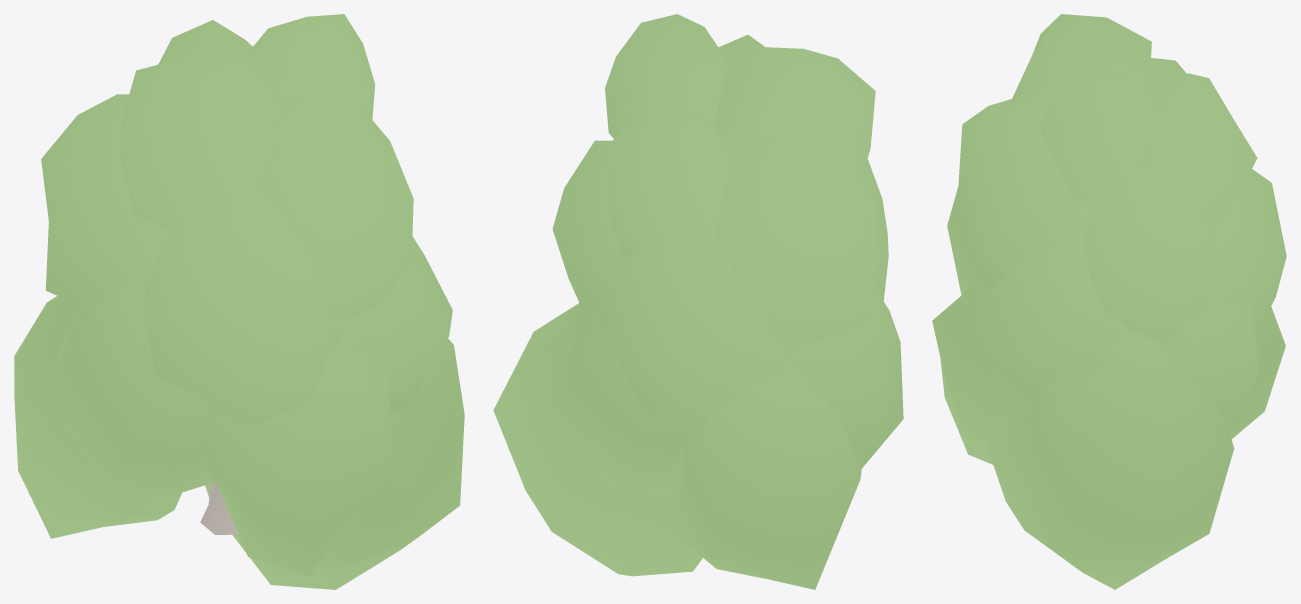
Rendered from Blender_LakeJuniper_3.glb.
3 views of the same model, side by side, from view 1: azimuth 30°, elevation 25°; view 2: azimuth 150°, elevation 25°; view 3: azimuth 270°, elevation 25° (orthographic). The views are drawn at different scales.
Visible parts, largest first — view 1: Blender_LakeJuniper_3; view 2: Blender_LakeJuniper_3; view 3: Blender_LakeJuniper_3.
Boxes of the visible parts, bbox=[...] form: Blender_LakeJuniper_3: bbox=[14, 14, 464, 589]; Blender_LakeJuniper_3: bbox=[493, 14, 903, 589]; Blender_LakeJuniper_3: bbox=[932, 14, 1286, 589].
Size of the model in its own units: 1.14 by 1.62 by 1.02.
